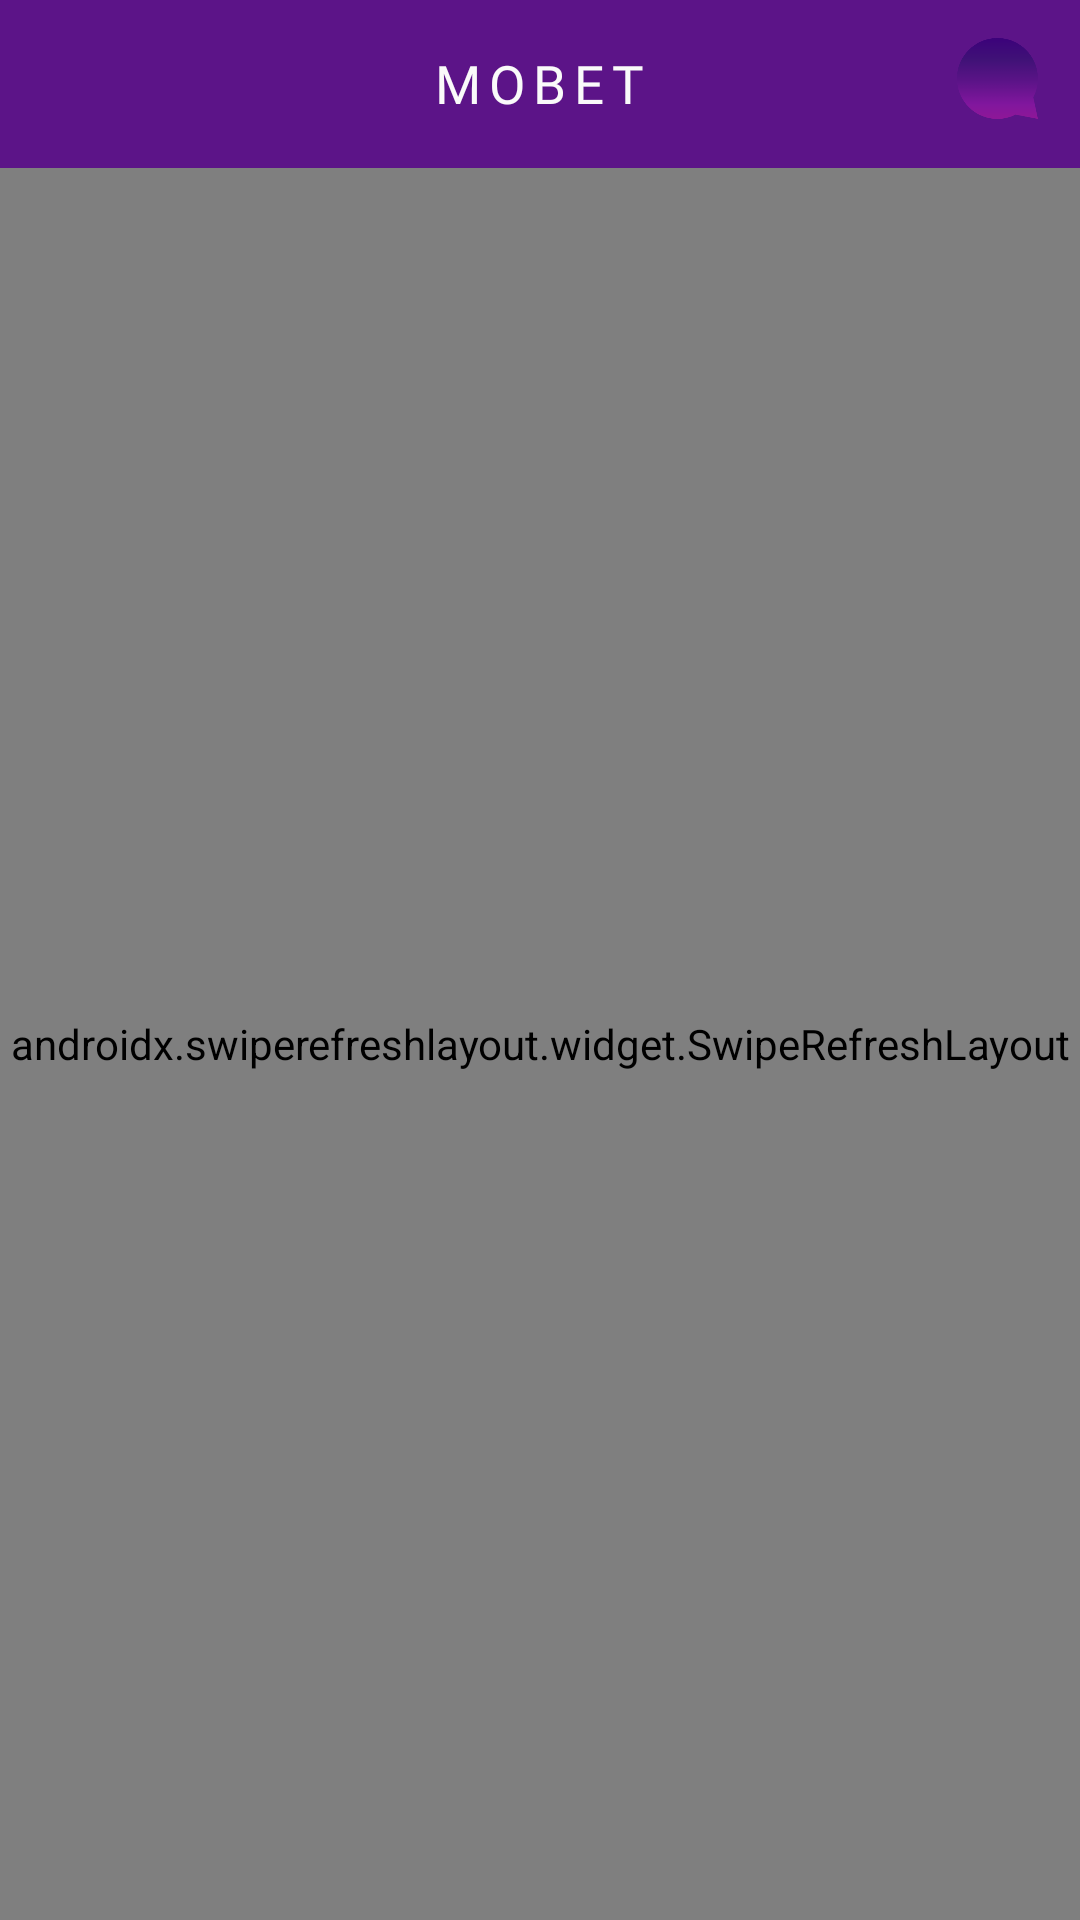

Where icons sit on this 1080 x 1920 app screen, as {"x1": x1, "y1": y1, "x2": x2, "y2": y2}:
chat: {"x1": 961, "y1": 38, "x2": 1038, "y2": 119}
